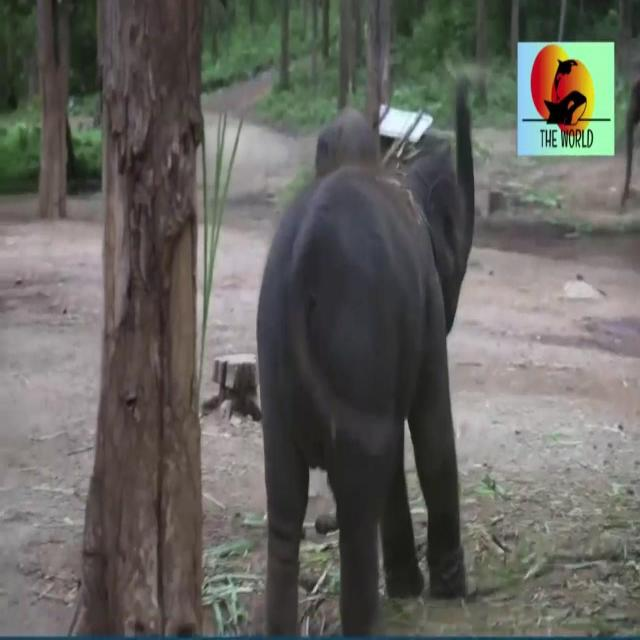Elephant: (270, 104, 467, 577)
